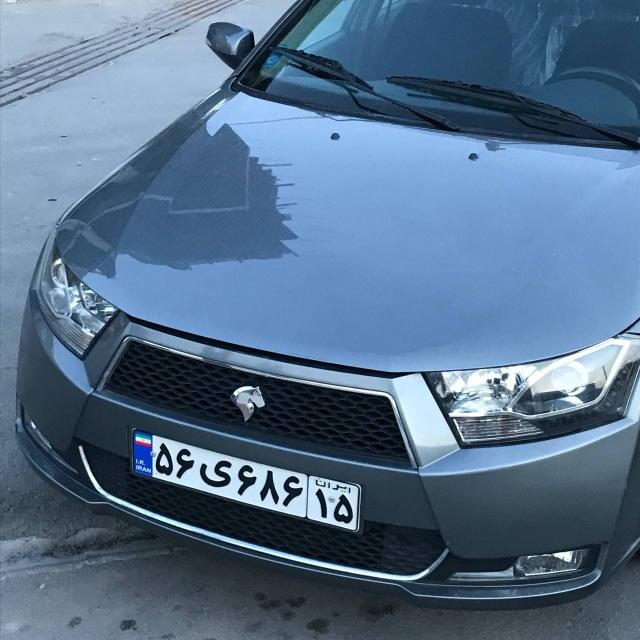Plates: (122, 428, 367, 530)
